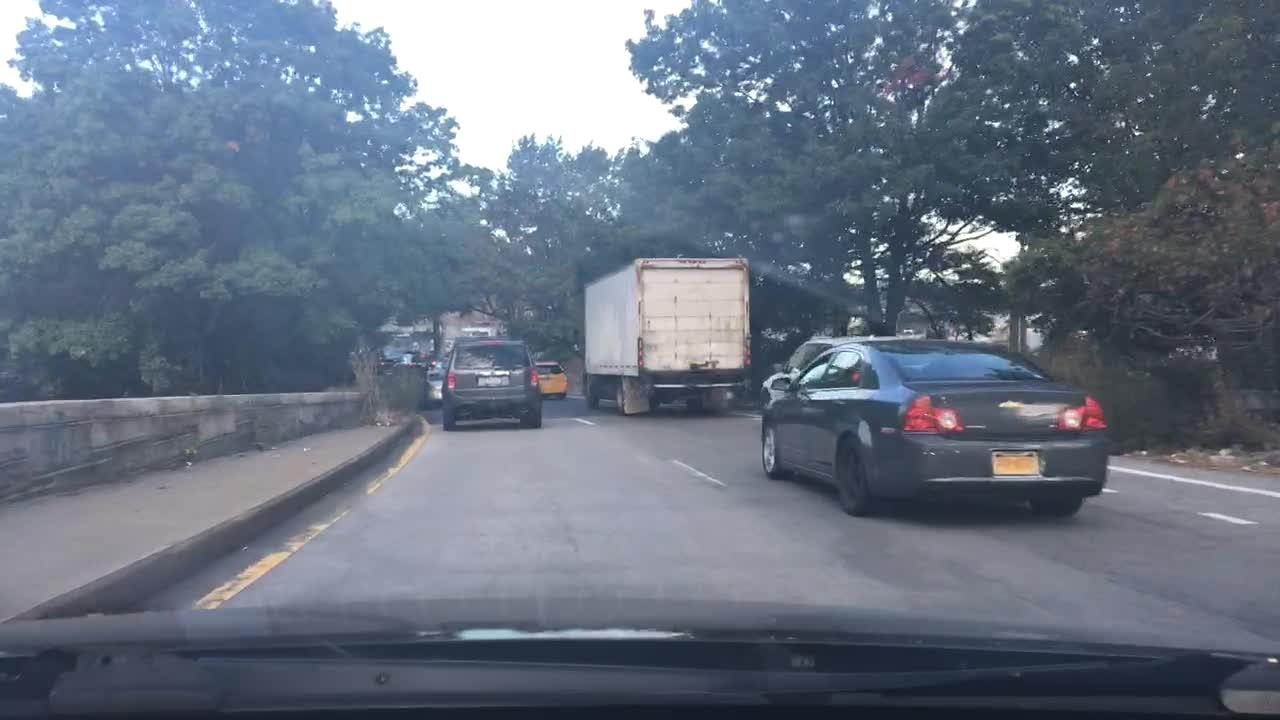chevrolet: (992, 389, 1035, 416)
